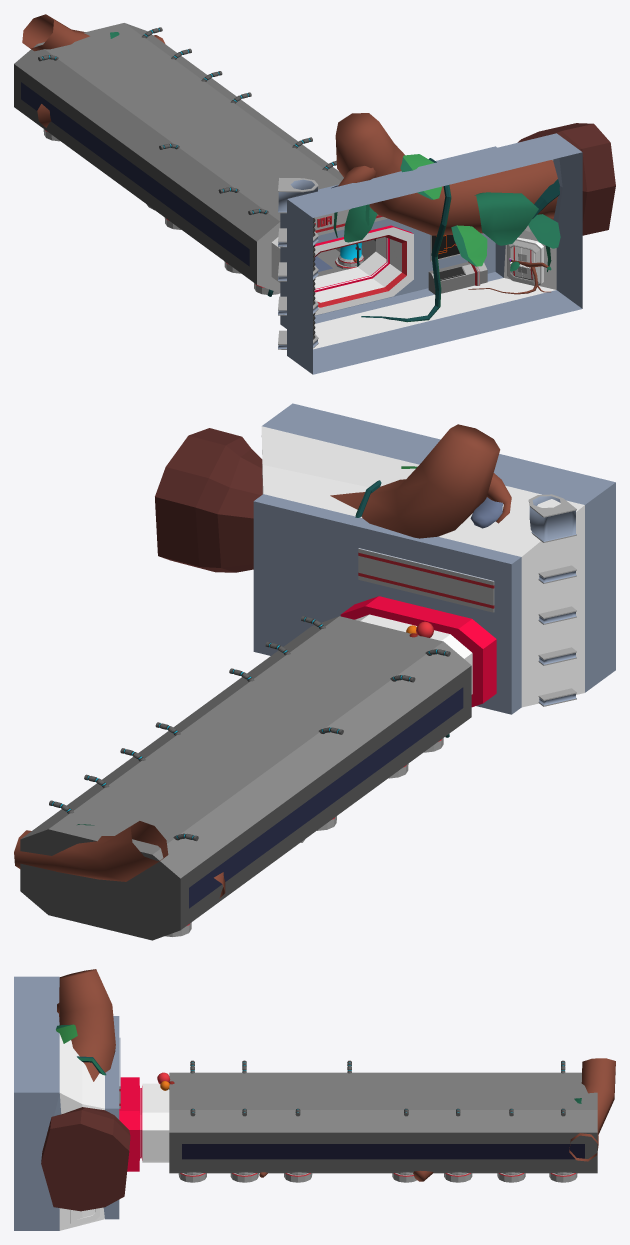
File: room02.glb
3 renders of one model, top to bottom at view 1: azimuth 30°, elevation 25°; view 2: azimuth 150°, elevation 25°; view 3: azimuth 270°, elevation 25°, orthographic. The views are drawn at different scales.
Visible parts, largest first — view 1: Room02; view 2: Room02; view 3: Room02.
Part boxes in pixels (x1,y1,x2,y2): Room02: (14,14,615,374); Room02: (14,403,615,940); Room02: (14,969,615,1230).
Size of the model in its own units: 21.42 by 13.59 by 39.49.
Materials: 1 (1 with a texture image).
